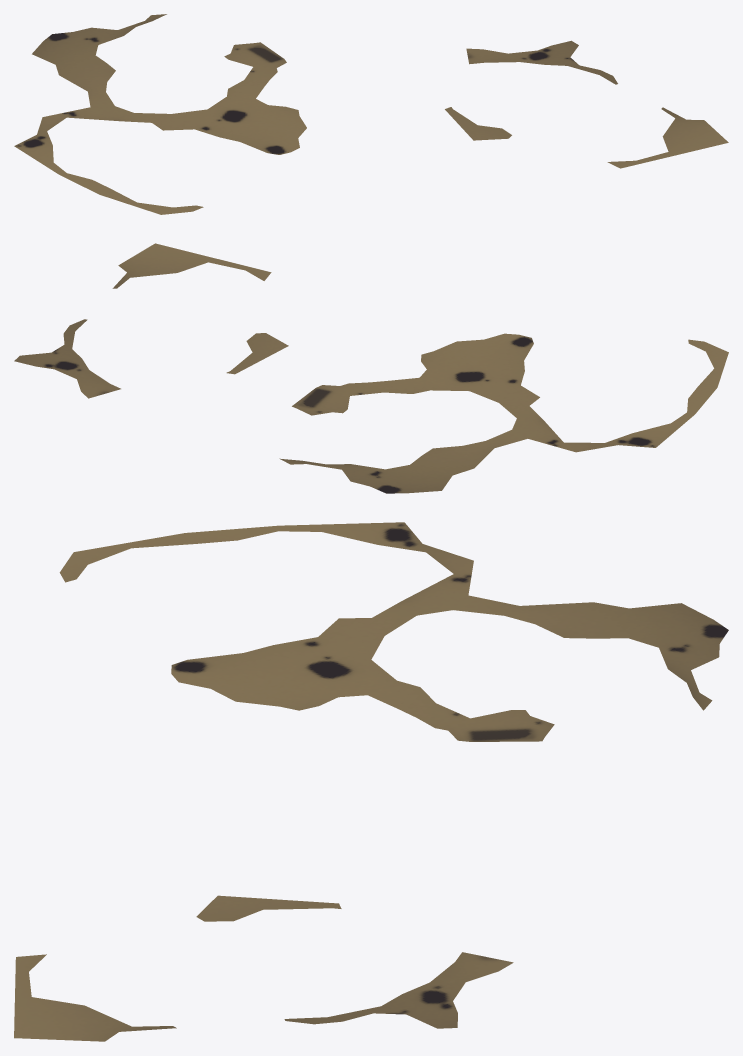
The model's file is Ground_03.FBX.
3 views of the same model, one above another, from view 1: azimuth 30°, elevation 25°; view 2: azimuth 150°, elevation 25°; view 3: azimuth 270°, elevation 25° (orthographic). The views are drawn at different scales.
Parts seen in each view (by area): view 1: Ground_03; view 2: Ground_03; view 3: Ground_03.
Boxes of the visible parts, box(x1,y1,x2,y2) form: Ground_03: box(14, 14, 728, 214); Ground_03: box(14, 243, 728, 493); Ground_03: box(14, 522, 728, 1041).
Size of the model in its own units: 34.49 by 2.64 by 23.35.
